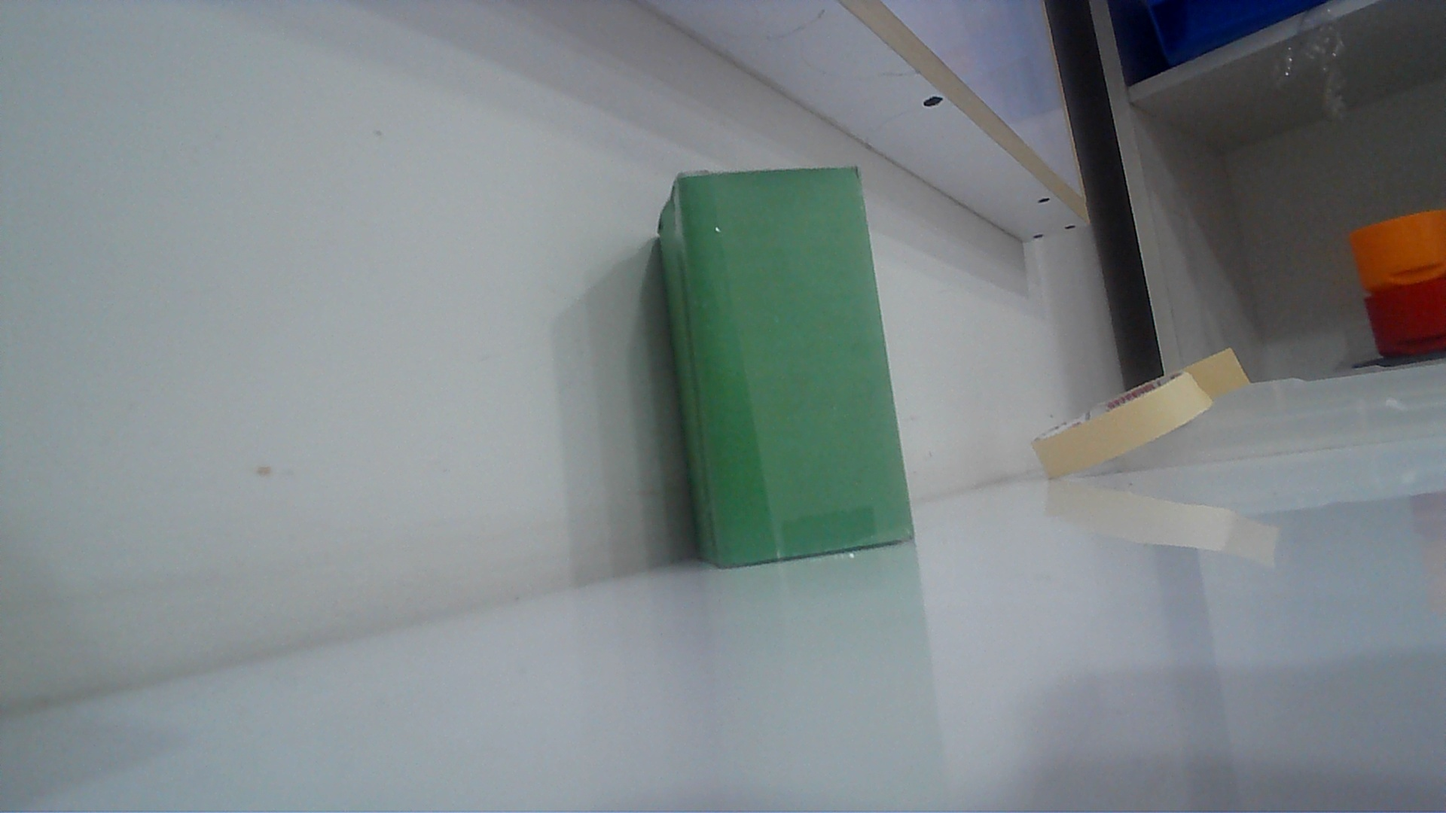green: (653, 138, 924, 598)
